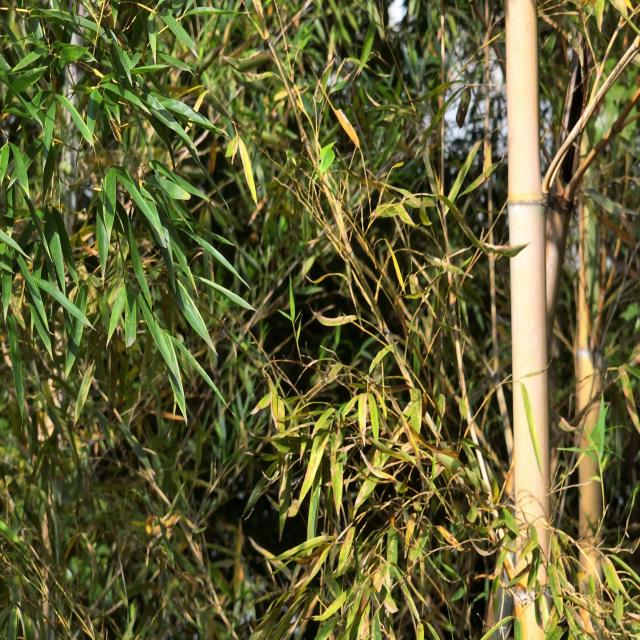Bamboo-shoots: (506, 0, 552, 640)
